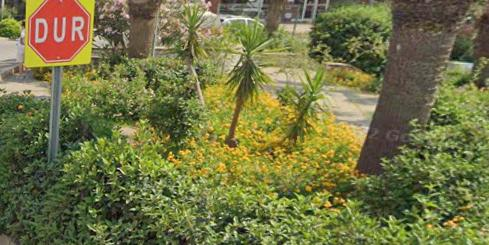stop: (27, 0, 92, 60)
